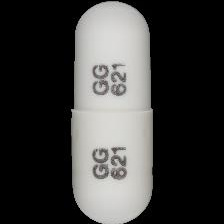0904-6126: (0, 0, 224, 224)
